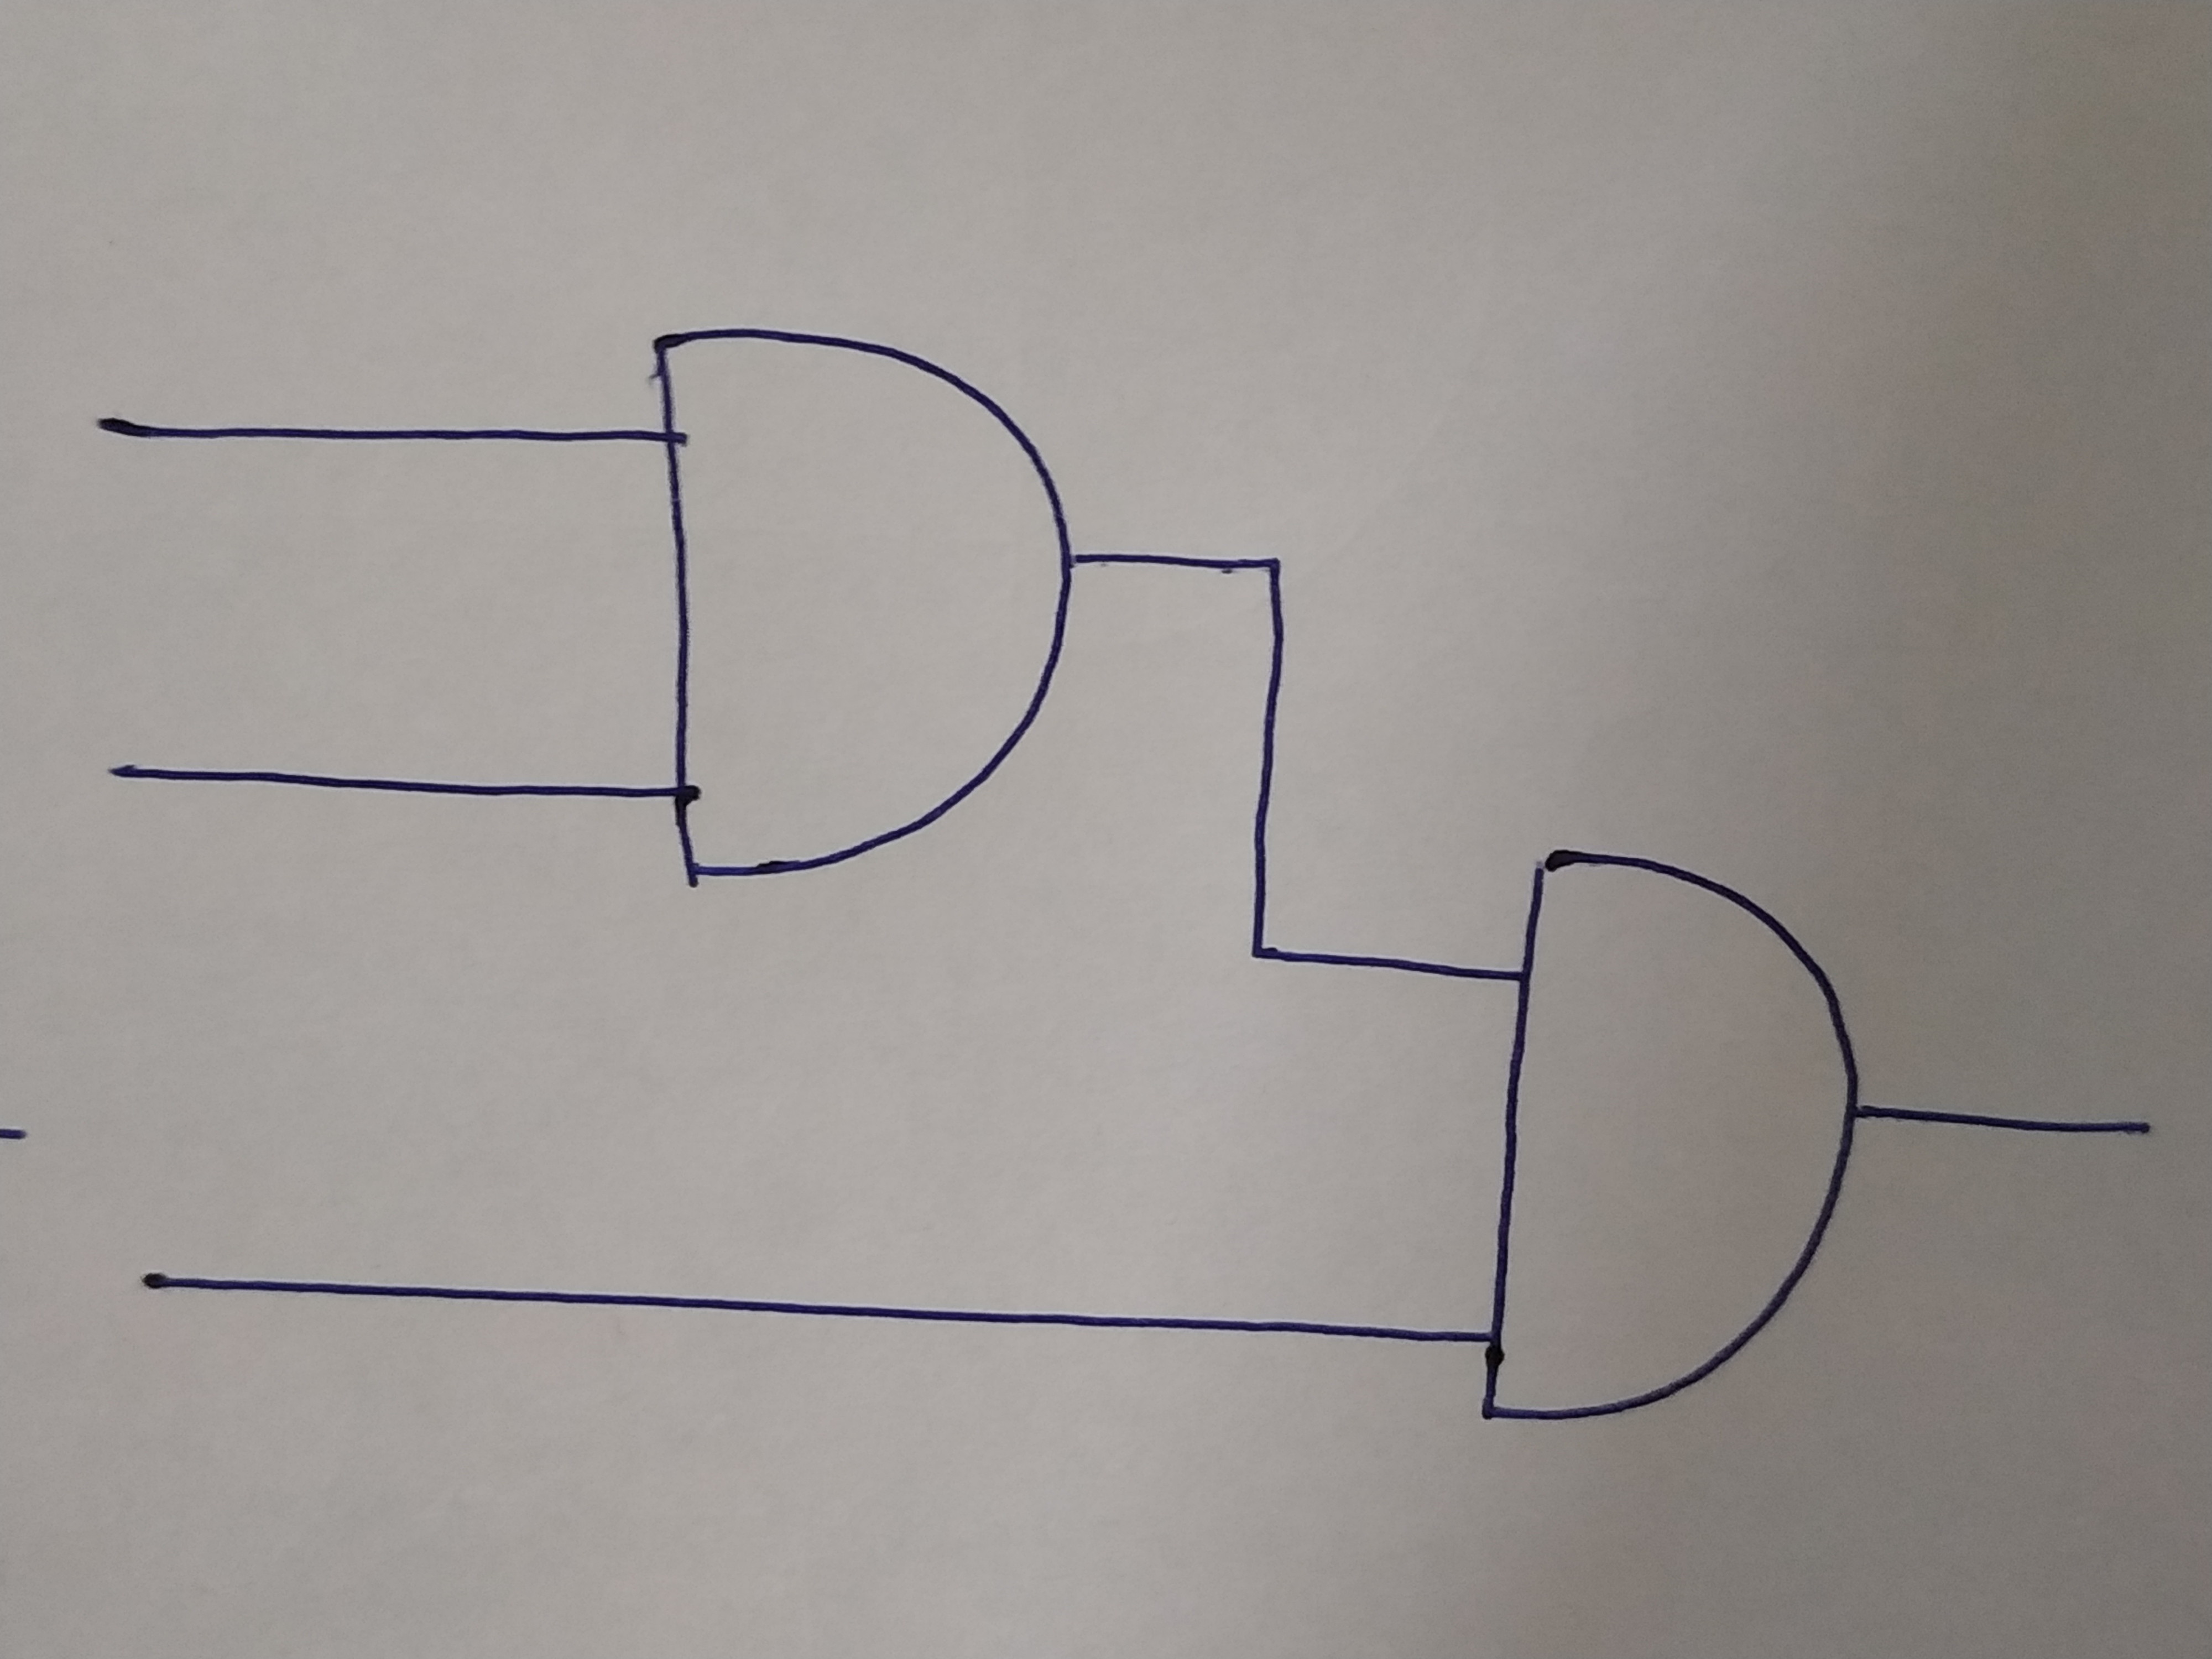and: (639, 336, 1082, 875), (1486, 850, 1843, 1427)
